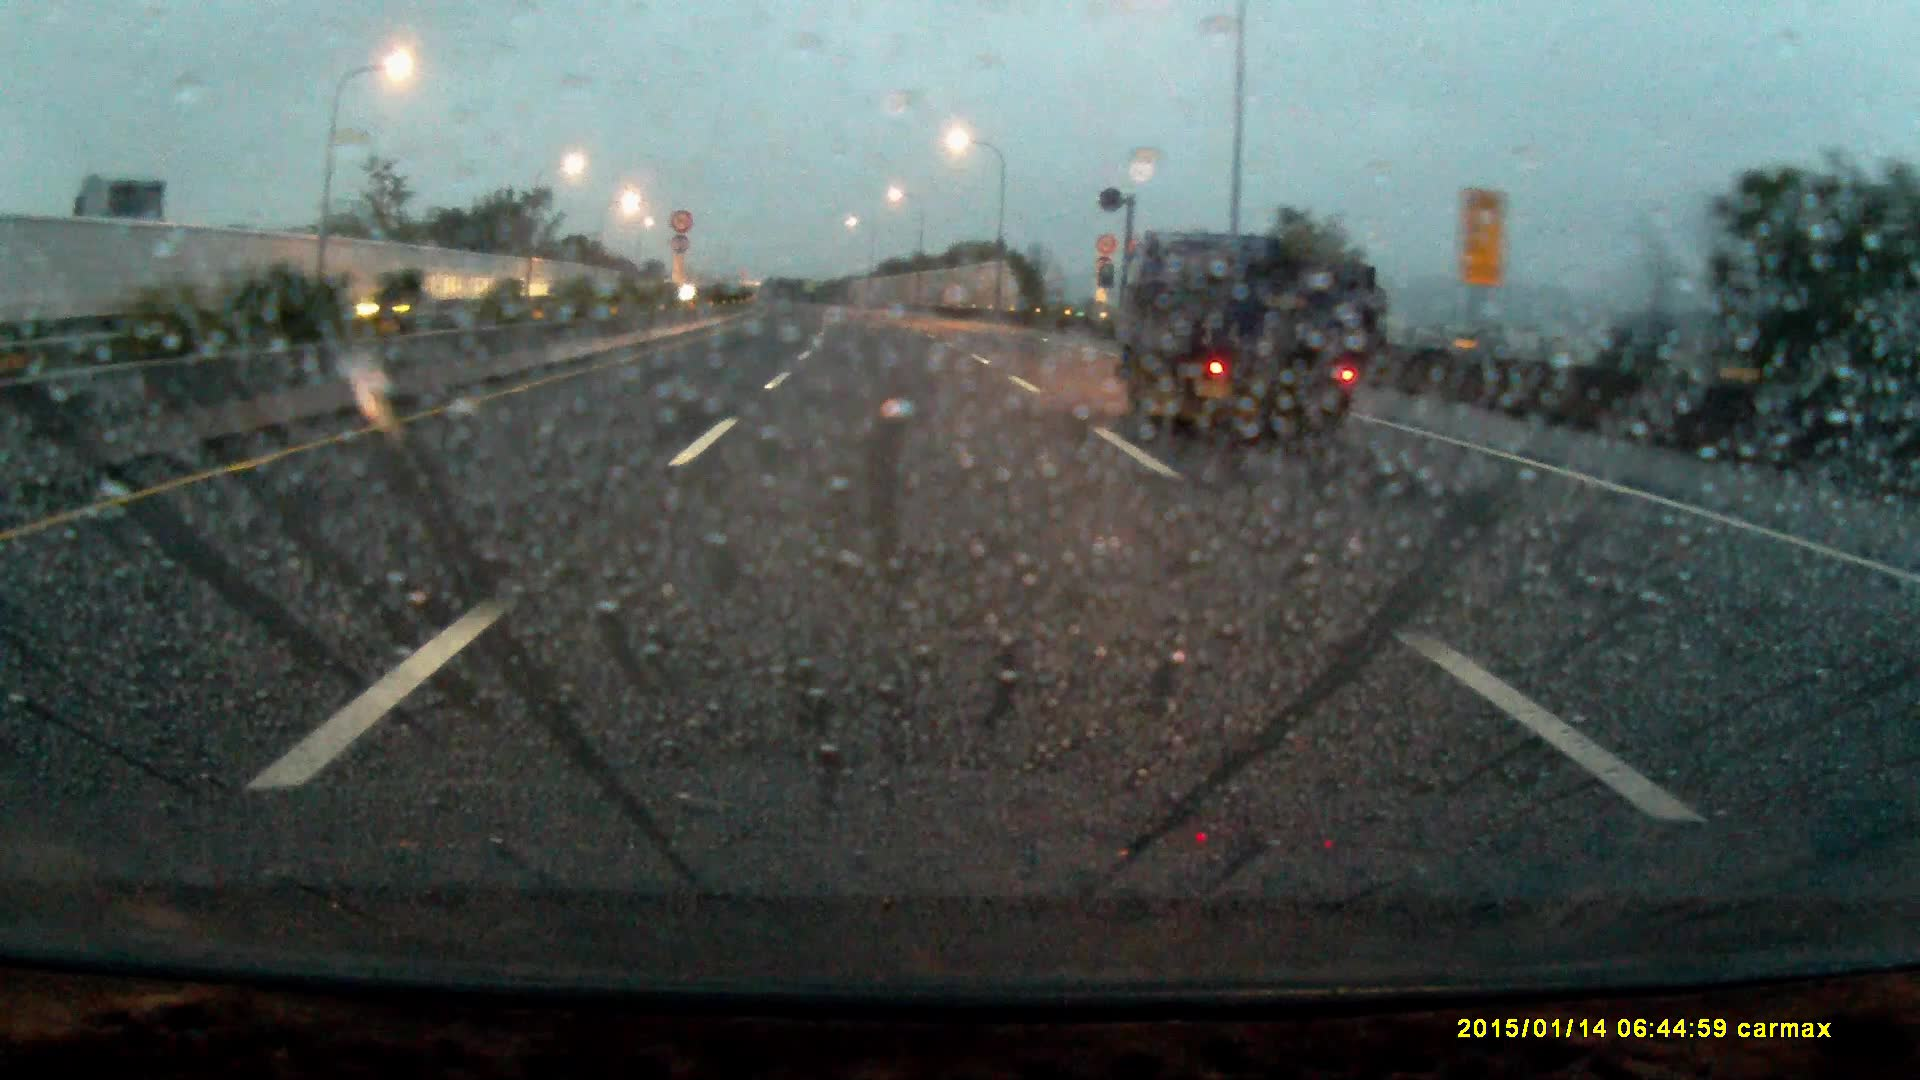vehicle: (1117, 233, 1371, 458), (359, 293, 448, 332)
